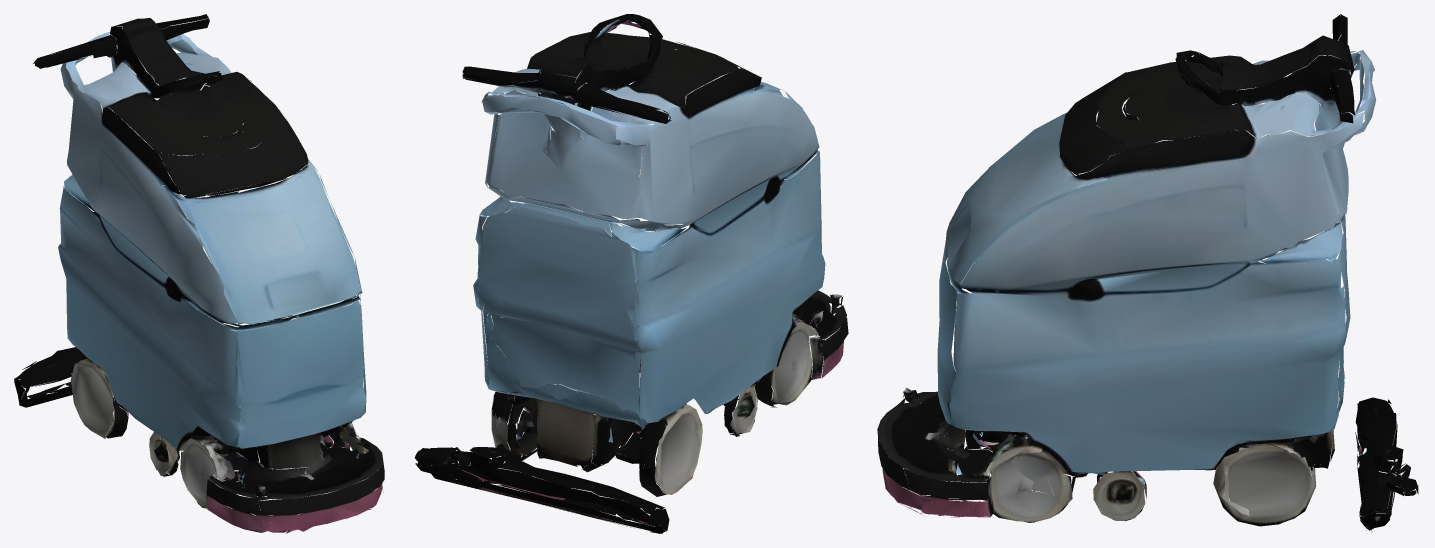
File: scrubber.glb
3 views of the same model, side by side, from view 1: azimuth 30°, elevation 25°; view 2: azimuth 150°, elevation 25°; view 3: azimuth 270°, elevation 25° (orthographic). The views are drawn at different scales.
Parts seen in each view (by area): view 1: scrubber; view 2: scrubber; view 3: scrubber.
Part boxes in pixels (box(x1,y1,x2,y2)): scrubber: box(14, 14, 384, 533); scrubber: box(415, 14, 848, 533); scrubber: box(877, 14, 1418, 531).
Bounding box in the file's own units: 0.5966 × 1.04 × 1.15.
1 material, 1 textured.
